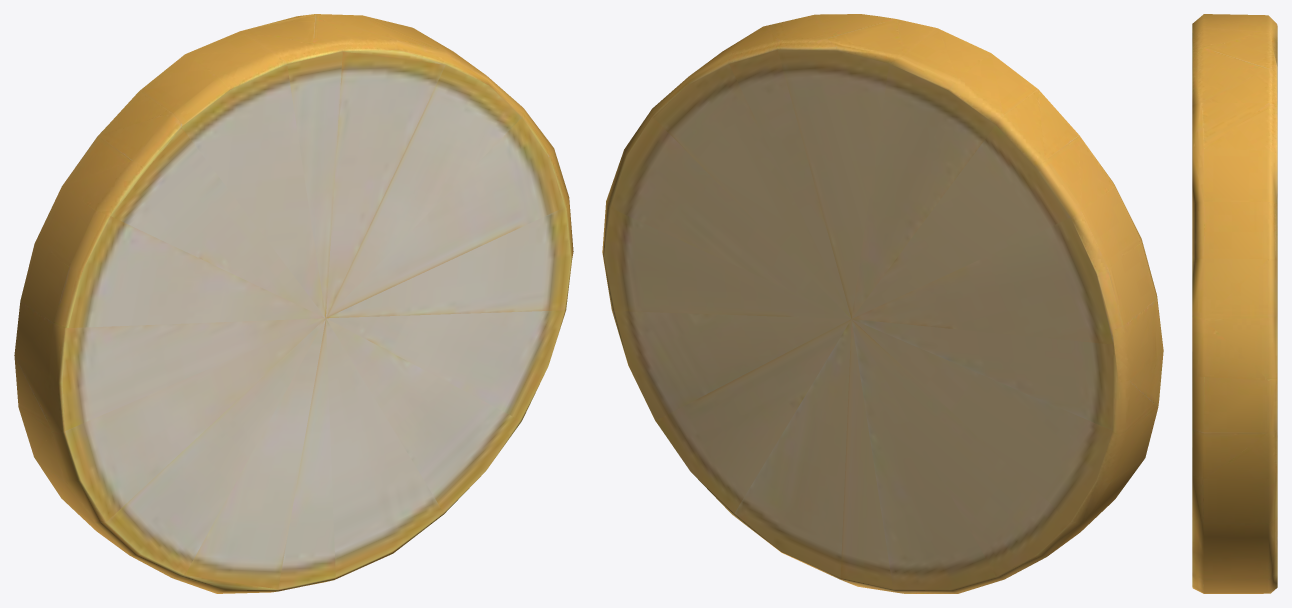
The model's file is token.glb.
The picture shows the model from 3 angles, left to right: view 1: azimuth 30°, elevation 25°; view 2: azimuth 150°, elevation 25°; view 3: azimuth 270°, elevation 25°; orthographic projection. The views are drawn at different scales.
Bounding box in the file's own units: 0.9541 × 0.9439 × 0.1392.
1 material, 1 textured.
